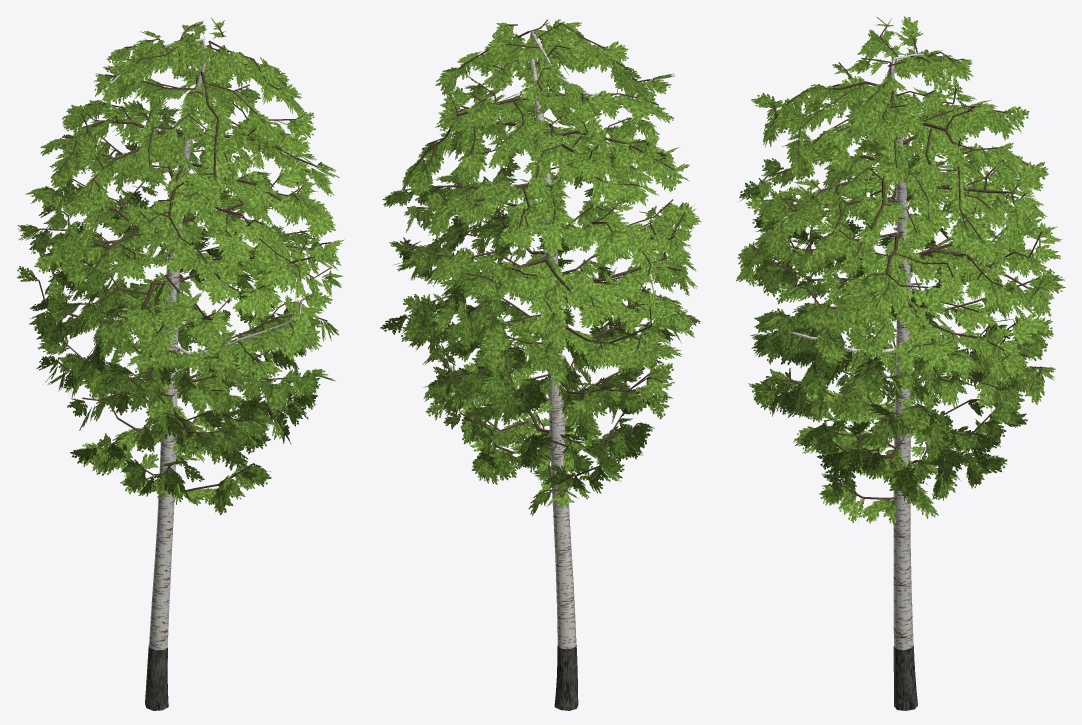
Rendered from birch_tall_02.glb.
3 renders of one model, left to right at view 1: azimuth 30°, elevation 25°; view 2: azimuth 150°, elevation 25°; view 3: azimuth 270°, elevation 25°, orthographic.
Visible parts, largest first — view 1: birch_tall_02; view 2: birch_tall_02; view 3: birch_tall_02.
Boxes of the visible parts, x1,y1,x2,y2 form: birch_tall_02: (17,17,344,710); birch_tall_02: (380,19,700,710); birch_tall_02: (736,16,1065,710).
Size of the model in its own units: 4.58 by 10.21 by 4.51.
Materials: 4 (4 with a texture image).
